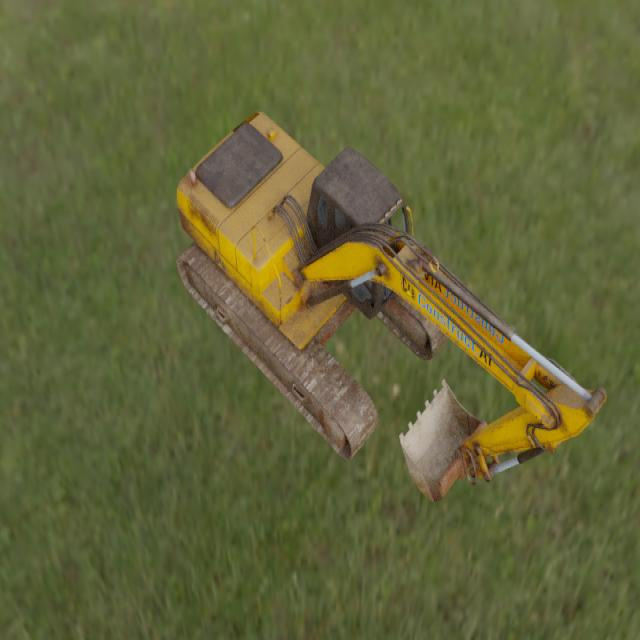excavator: (175, 111, 607, 501)
